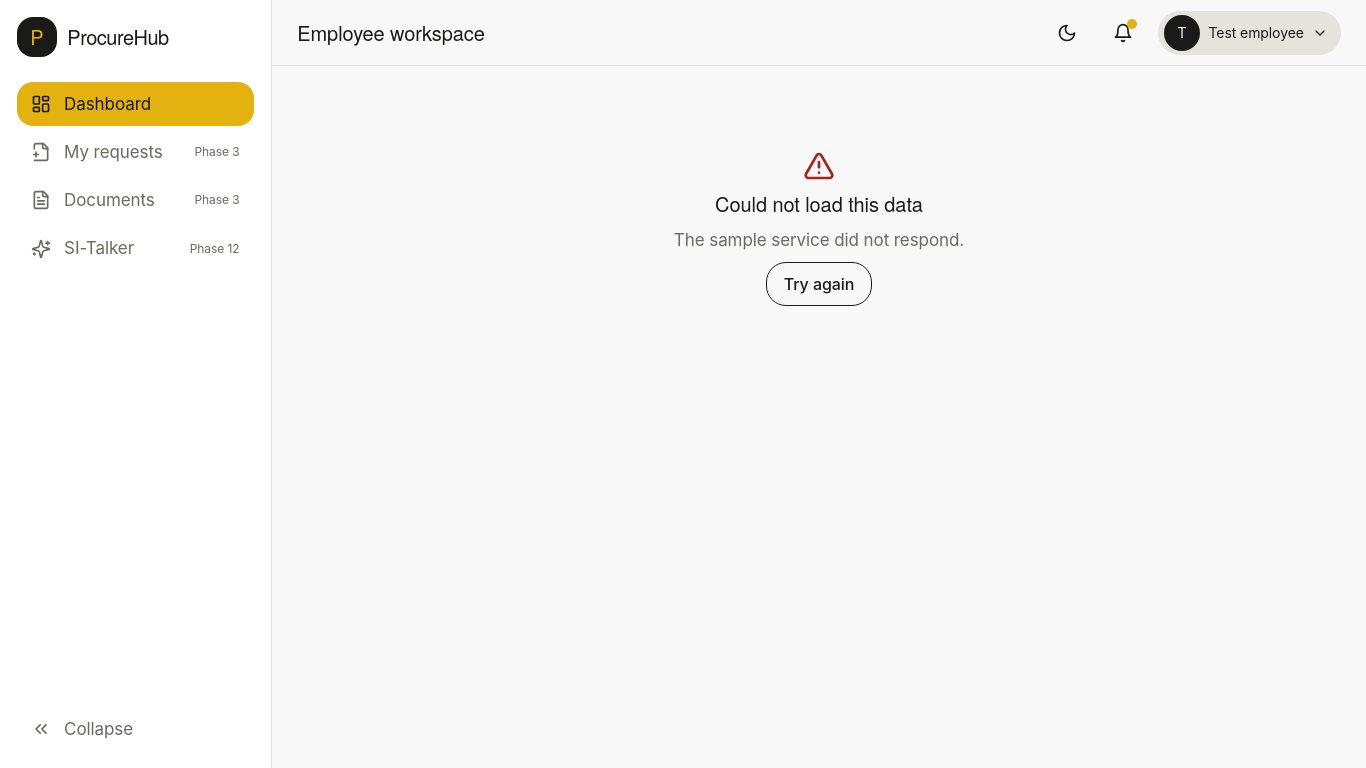
Test: routing › shows an error state with retry when data fails to load
Check: the message shows "Could not load this data", box [715,189,923,218]
Click the button "Try again". click: coordinates (819, 284)
box: [766,262,872,306]
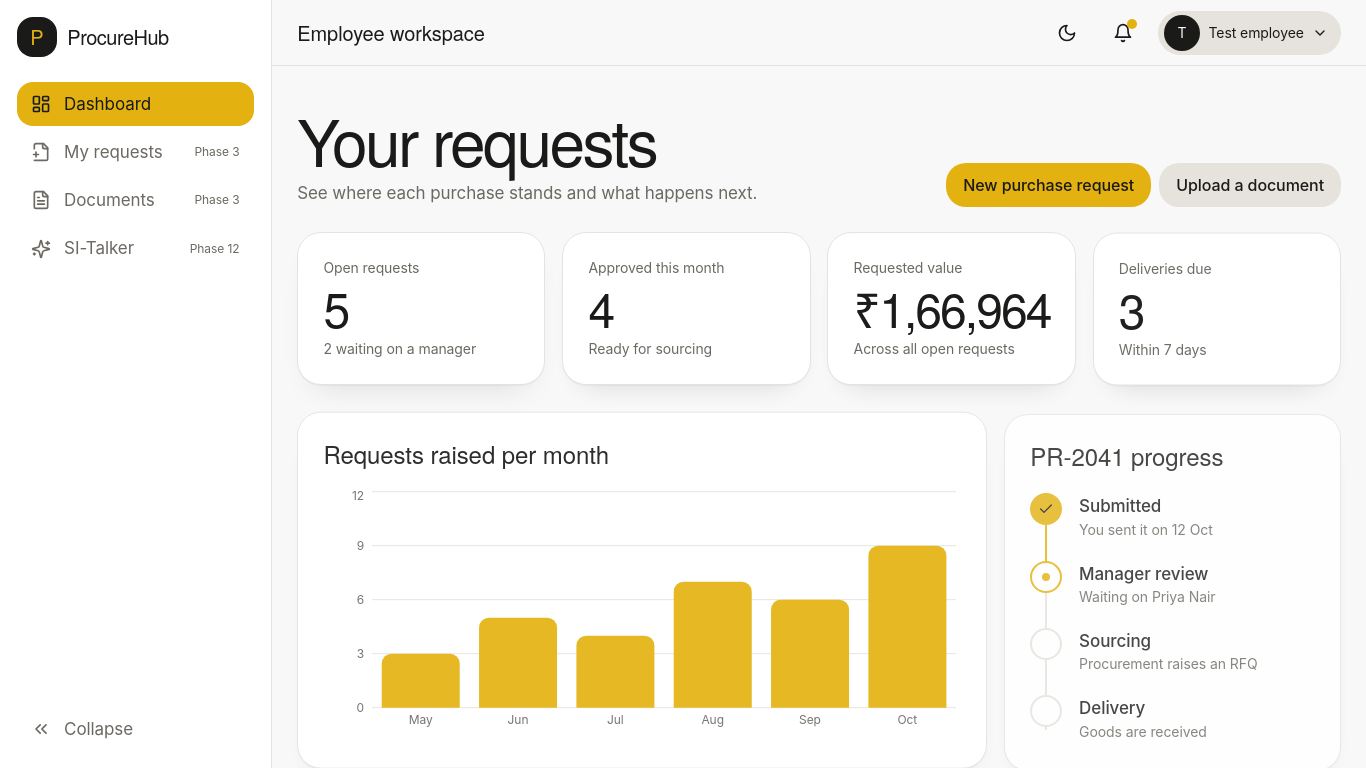
Check: the element named "Key figures" is shown, box [297,232,1341,385]
